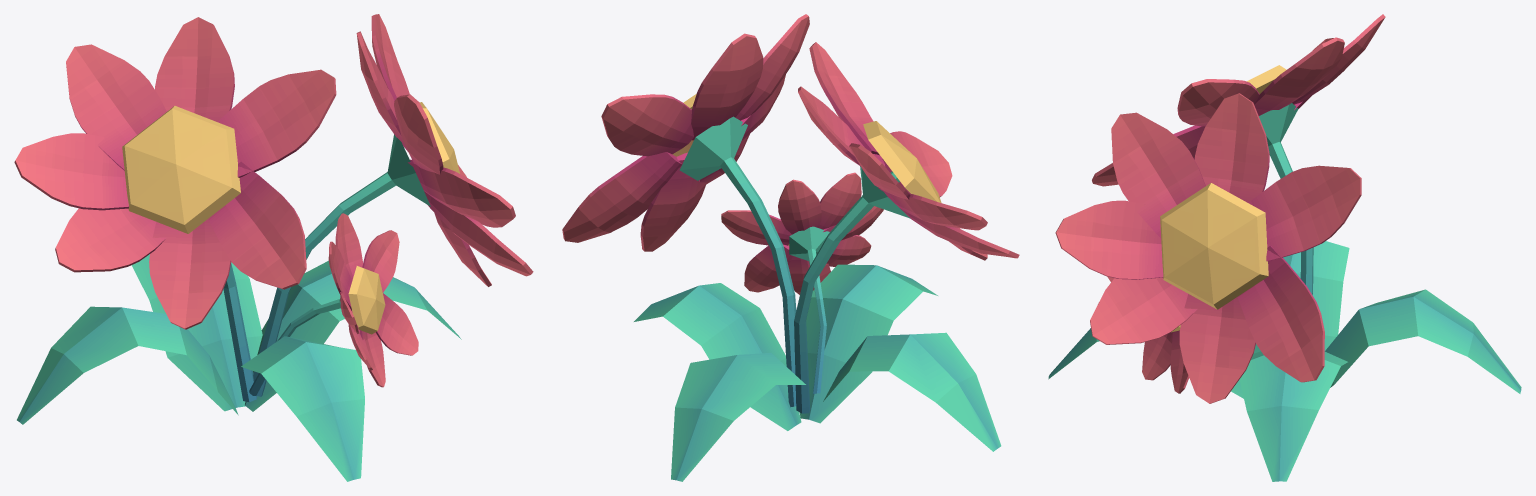
File: red_three_flower_1.gltf
The picture shows the model from 3 angles, left to right: view 1: azimuth 30°, elevation 25°; view 2: azimuth 150°, elevation 25°; view 3: azimuth 270°, elevation 25°; orthographic projection. The views are drawn at different scales.
Visible parts, largest first — view 1: Object_18; view 2: Object_18; view 3: Object_18.
Part boxes in pixels (bbox=[...]): Object_18: bbox=[14, 14, 533, 481]; Object_18: bbox=[562, 14, 1019, 481]; Object_18: bbox=[1048, 14, 1521, 481].
Bounding box in the file's own units: 2.29 × 1.82 × 2.15.
1 material, 1 textured.
